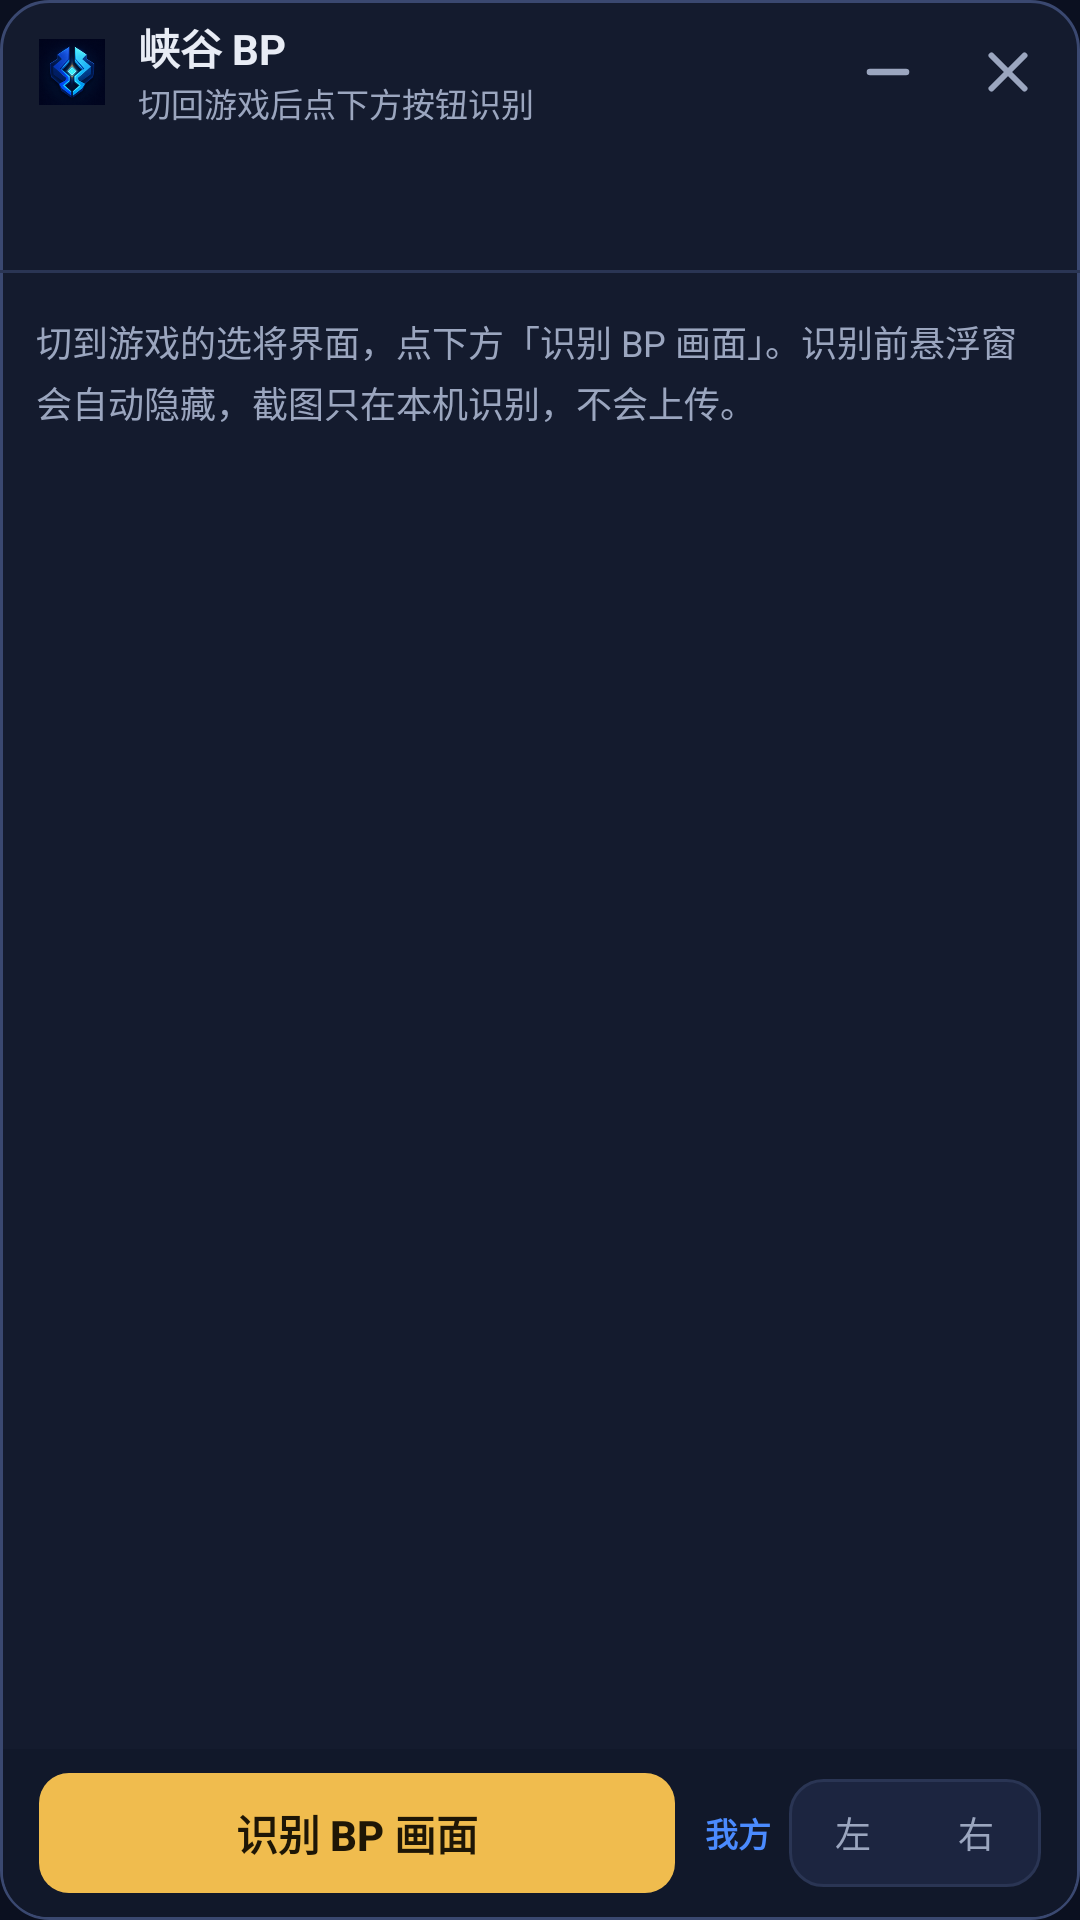

Screen size 1080*1920. Icon name, then its center in pixels as [x,y]:
关闭悬浮助手: [1008,72]
收起悬浮窗: [888,72]
